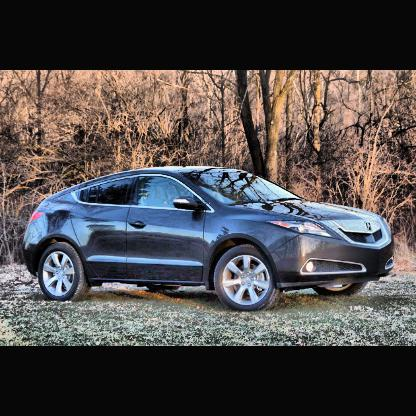Acura ZDX Hatchback 2012: (23, 168, 396, 313)
